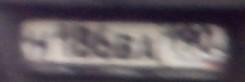license-plateSW: (19, 18, 230, 70)
